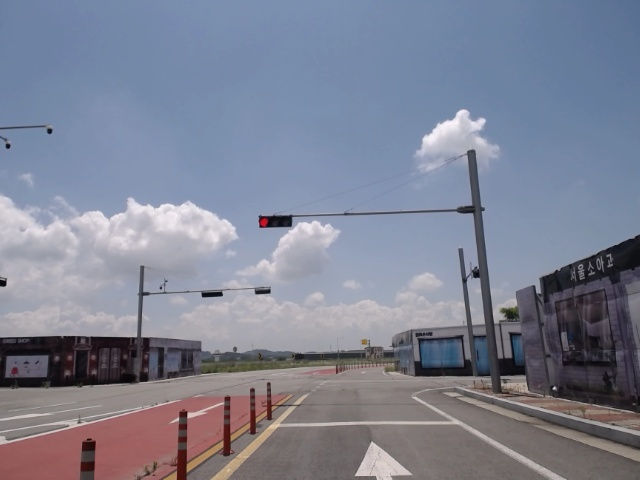red_3: (258, 214, 295, 229)
